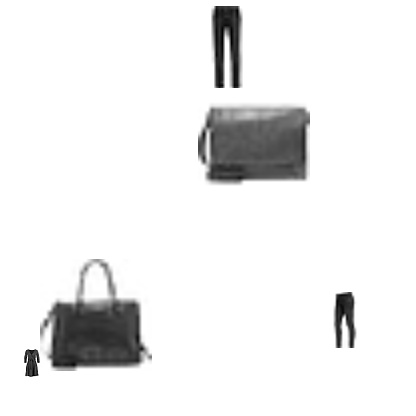Bag: (40, 259, 152, 371), (198, 88, 310, 200)
Dress: (17, 349, 45, 377)
Trouser: (185, 6, 269, 90), (316, 292, 372, 348)
